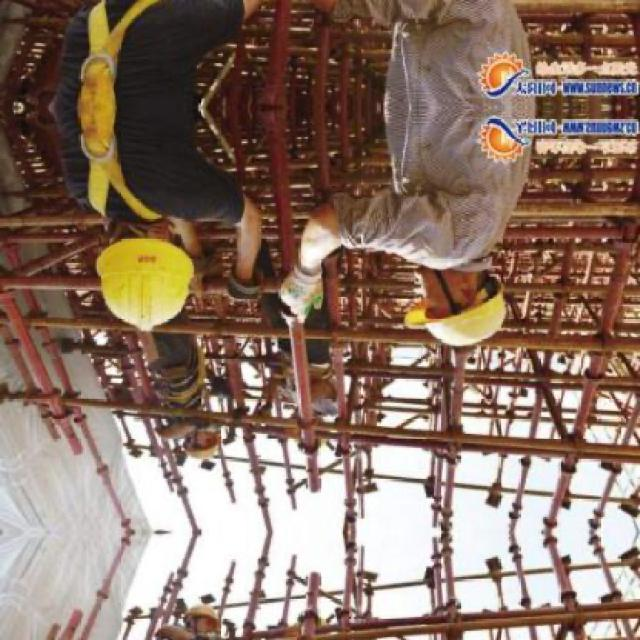con casco: (85, 184, 248, 343), (368, 260, 499, 360)
